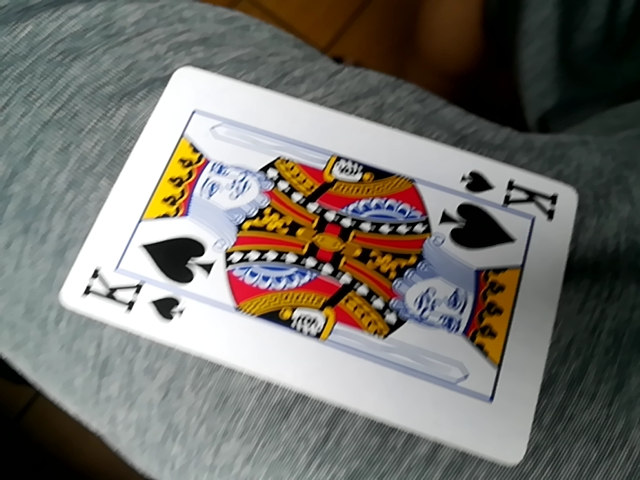ht k: (51, 64, 587, 464)
